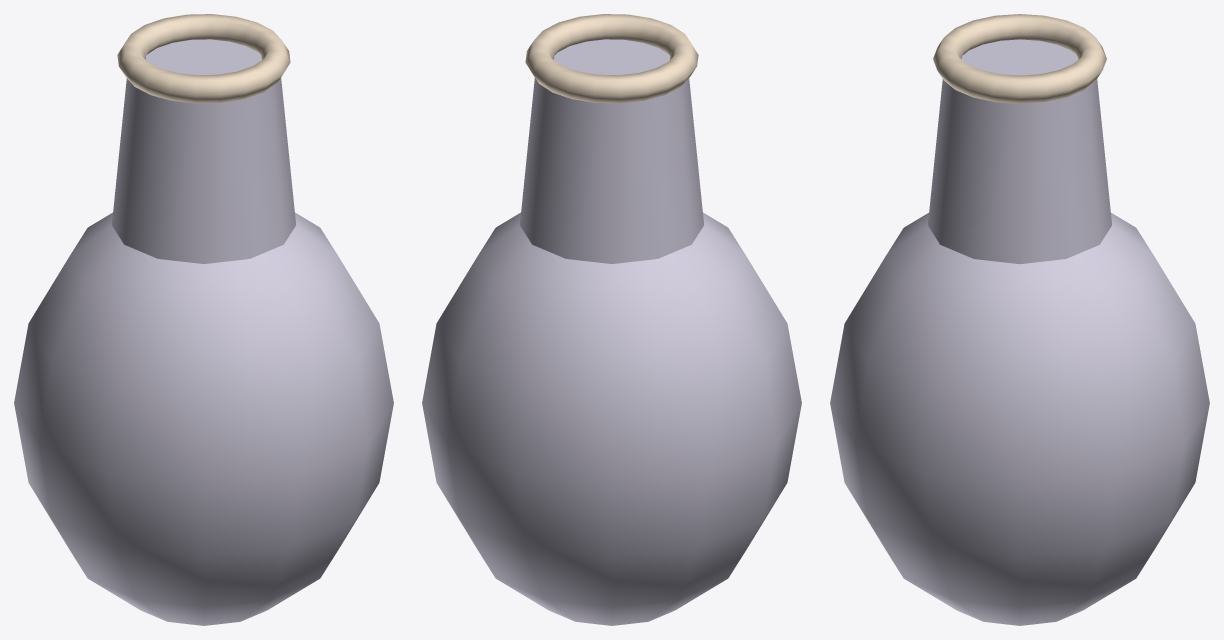
File: vase.glb
3 views of the same model, side by side, from view 1: azimuth 30°, elevation 25°; view 2: azimuth 150°, elevation 25°; view 3: azimuth 270°, elevation 25° (orthographic).
Parts seen in each view (by area): view 1: vase.material0, vase.material1; view 2: vase.material0, vase.material1; view 3: vase.material0, vase.material1.
Part boxes in pixels (left/top/right/bottom): vase.material0: left=14, top=39, right=393, bottom=625; vase.material1: left=117, top=14, right=290, bottom=103; vase.material0: left=422, top=39, right=801, bottom=625; vase.material1: left=525, top=14, right=698, bottom=103; vase.material0: left=830, top=39, right=1209, bottom=625; vase.material1: left=933, top=14, right=1106, bottom=103.
Size of the model in its own units: 0.24 by 0.3928 by 0.24.
